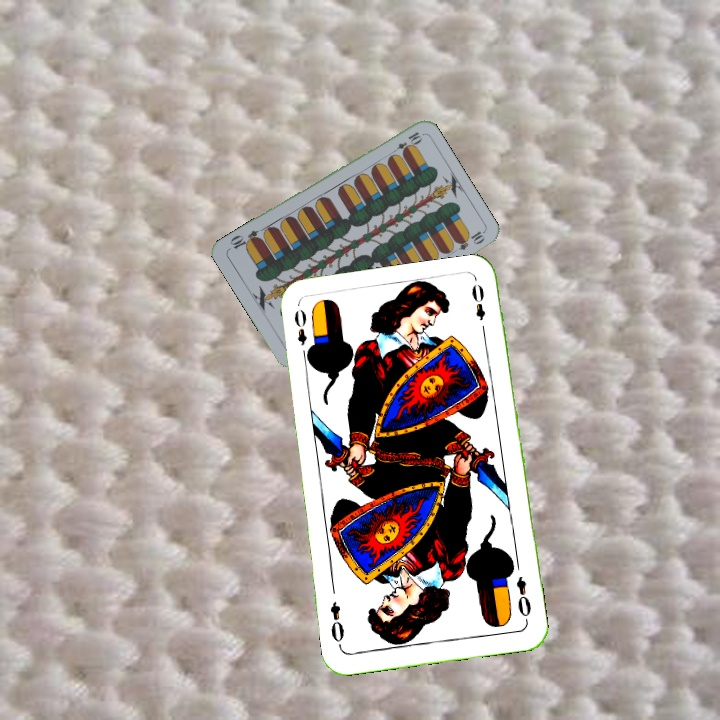E10: (387, 128, 424, 158)
EO: (290, 305, 314, 362), (512, 572, 534, 624)
